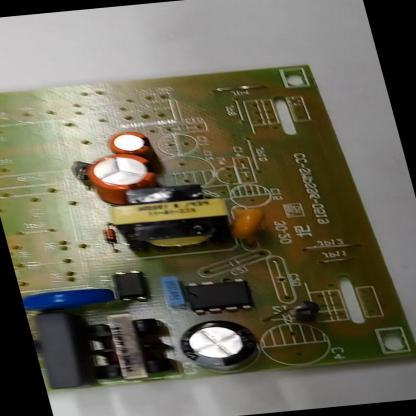Cap1: (85, 150, 157, 193)
Cap2: (104, 129, 152, 155)
Cap3: (174, 317, 264, 374)
MOSFET: (185, 276, 254, 314)
Mov: (20, 284, 116, 312)
Resistor: (32, 336, 40, 352)
Transformer: (102, 181, 236, 255), (82, 310, 176, 379)
